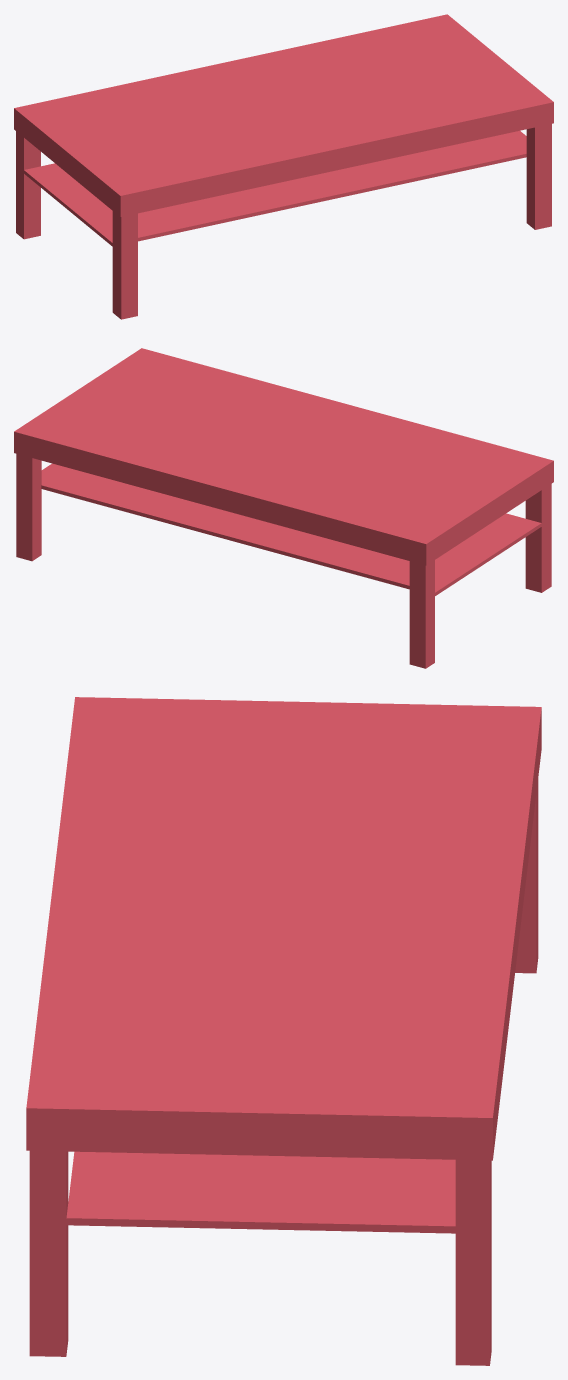
Rendered from CoffeeTable.fbx.
3 views of the same model, one above another, from view 1: azimuth 30°, elevation 25°; view 2: azimuth 150°, elevation 25°; view 3: azimuth 270°, elevation 25° (orthographic). The views are drawn at different scales.
Visible parts, largest first — view 1: Coffe_Table, Coffe_Table.001; view 2: Coffe_Table, Coffe_Table.001; view 3: Coffe_Table, Coffe_Table.001.
Part boxes in pixels (left/top/right/bottom): Coffe_Table: left=14, top=14, right=553, bottom=319; Coffe_Table.001: left=24, top=130, right=526, bottom=246; Coffe_Table: left=14, top=348, right=553, bottom=668; Coffe_Table.001: left=41, top=463, right=541, bottom=595; Coffe_Table: left=26, top=697, right=541, bottom=1365; Coffe_Table.001: left=66, top=1151, right=455, bottom=1233.
Size of the model in its own units: 270 by 74.58 by 140.
